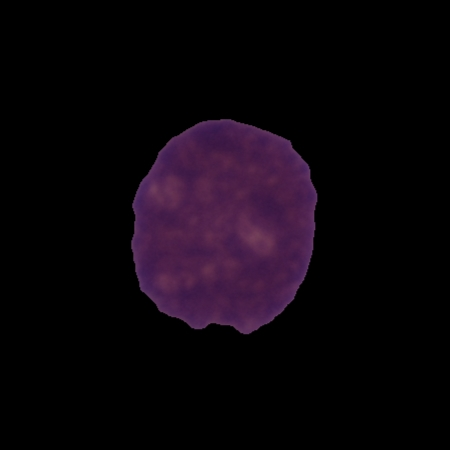HEM: (127, 115, 321, 337)
